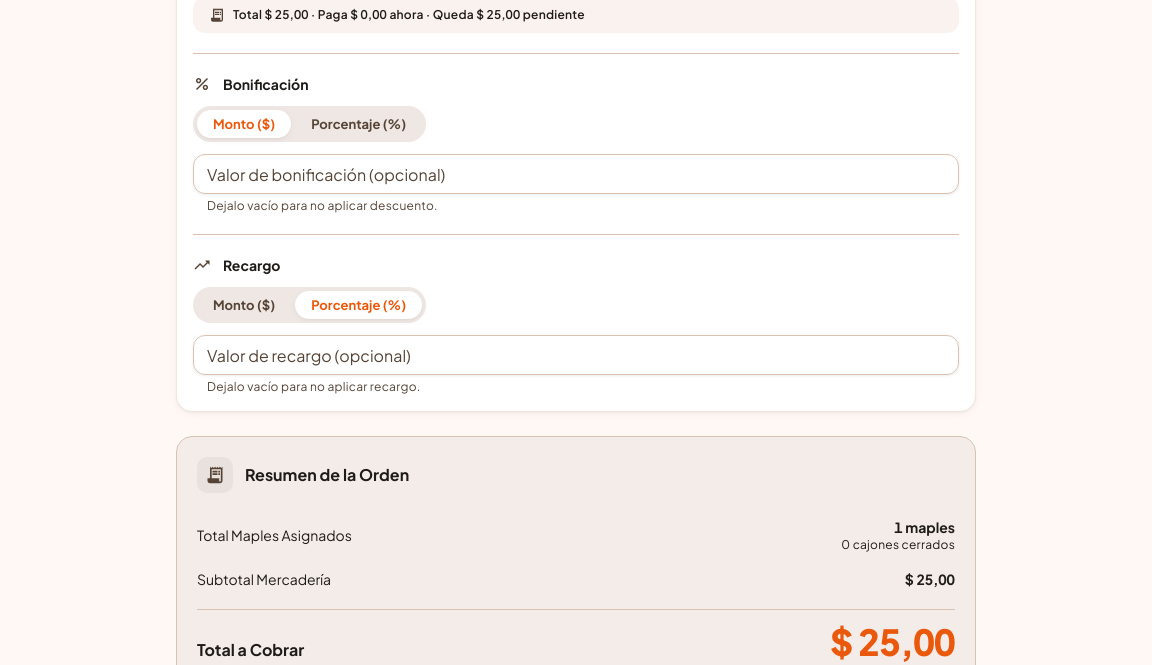
Test: NewOrderPage — order-level surcharge › computes a percentage surcharge live and submits it
This screenshot has width=1152, height=665.
Earlier steps of the test are not shown.
Later steps or results of the test are not shown.
(page scrolled)
Type "10" into the number field labelled "Valor de recargo (opcional)" at (576, 355), box [193,335,959,375]
(page scrolled)
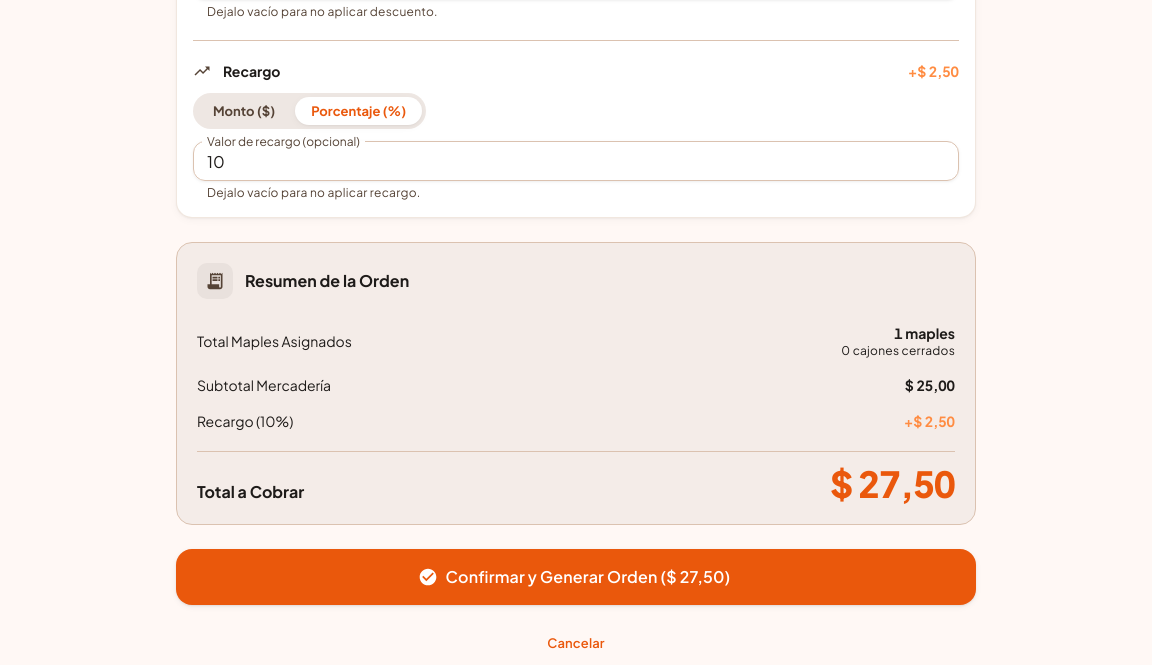
Check: the 1st text "+$ 2,50" is shown, box [908,61,959,81]
Check: the heading "$ 27,50" is shown, box [830,464,955,504]
Check: the text "Recargo (10%)" is shown, box [197,411,293,431]
